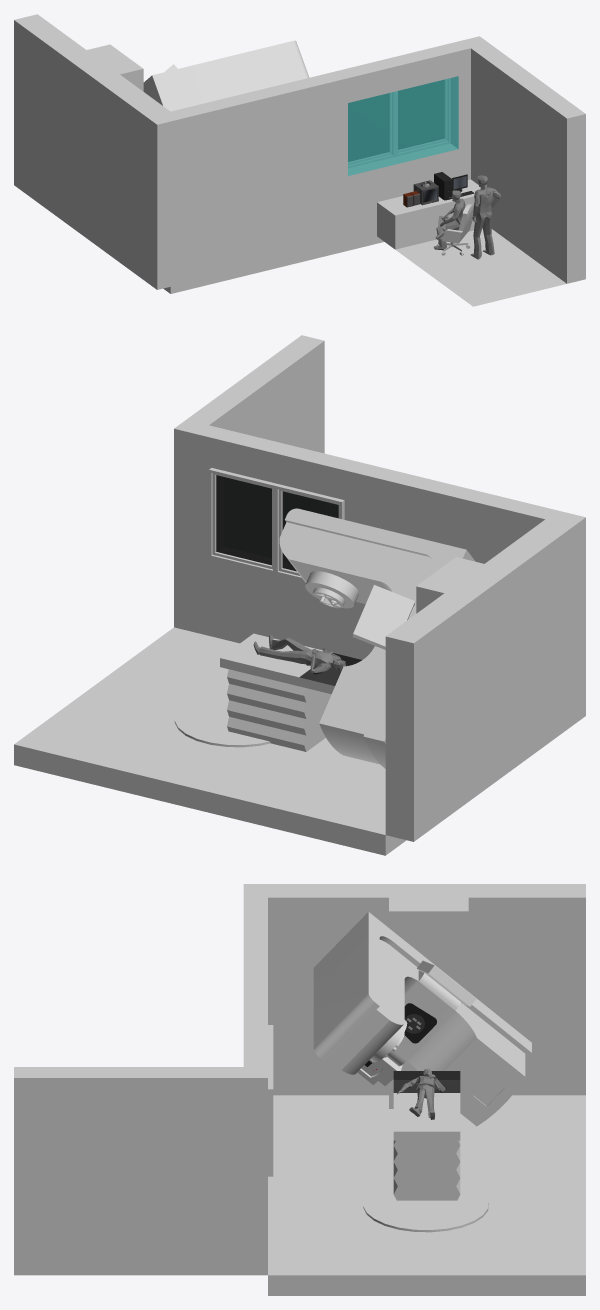
The model's file is radiation2.fbx.
3 views of the same model, one above another, from view 1: azimuth 30°, elevation 25°; view 2: azimuth 150°, elevation 25°; view 3: azimuth 270°, elevation 25° (orthographic). The views are drawn at different scales.
Visible parts, largest first — view 1: FbxMesh (×11); view 2: FbxMesh (×11); view 3: FbxMesh (×10).
Part boxes in pixels (left/top/right/bottom): FbxMesh (×11): left=14, top=14, right=585, bottom=306; FbxMesh (×11): left=14, top=335, right=585, bottom=855; FbxMesh (×10): left=14, top=884, right=585, bottom=1295.
Bounding box in the file's own units: 343 × 180 × 428.
19 materials, 4 textured.
